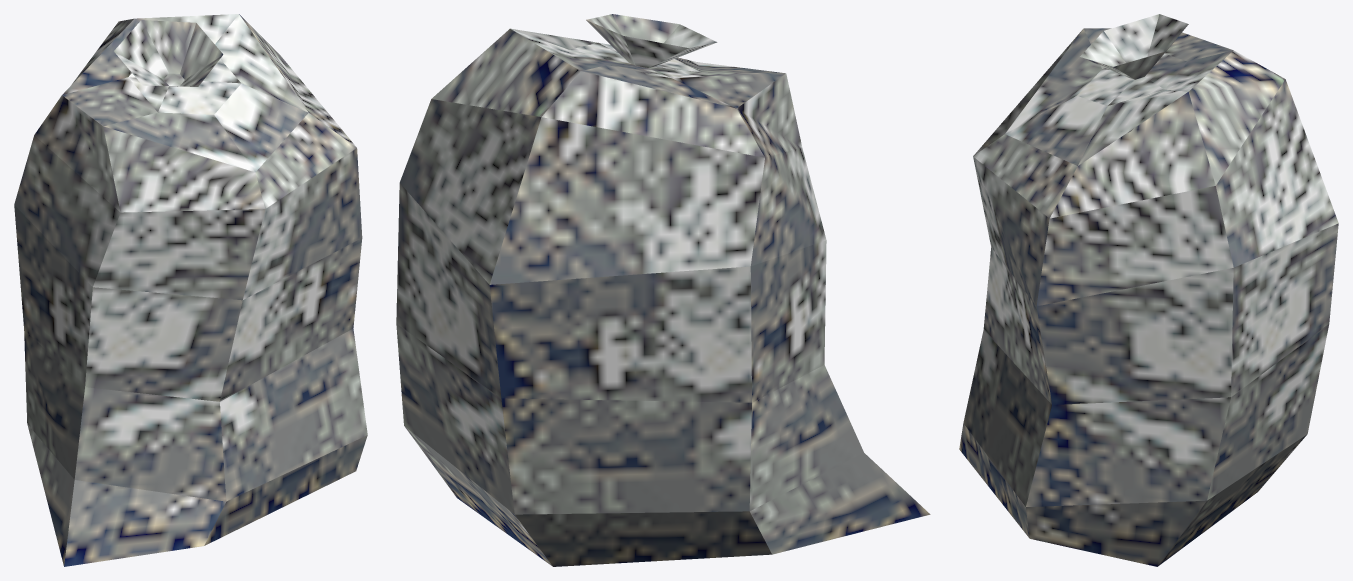
File: bolsasbasura3.fbx
3 renders of one model, left to right at view 1: azimuth 30°, elevation 25°; view 2: azimuth 150°, elevation 25°; view 3: azimuth 270°, elevation 25°, orthographic. The views are drawn at different scales.
Visible parts, largest first — view 1: trashbag_2_white; view 2: trashbag_2_white; view 3: trashbag_2_white.
Part boxes in pixels (x1,y1,x2,y2): trashbag_2_white: (14, 14, 367, 566); trashbag_2_white: (396, 14, 930, 566); trashbag_2_white: (959, 14, 1338, 566).
Bounding box in the file's own units: 85.55 × 104 × 77.44.
1 material, 1 textured.
